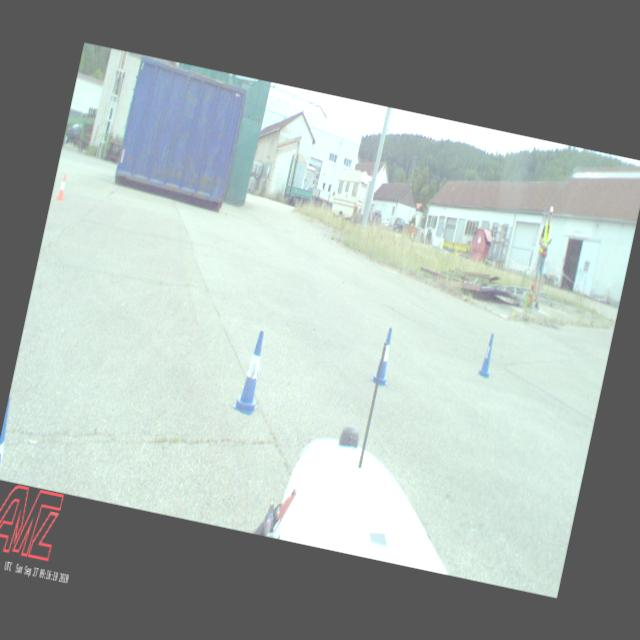blue_cone: (232, 330, 271, 416), (371, 325, 398, 386), (0, 394, 16, 479), (477, 332, 498, 378)
orange_cone: (56, 174, 68, 200)
